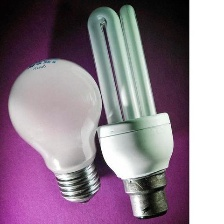light_bulb: (83, 0, 177, 221), (5, 53, 105, 207)
